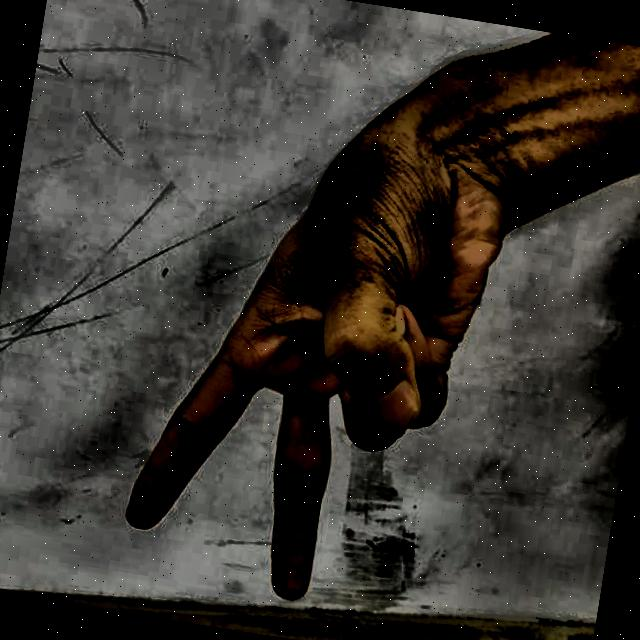Pa: (85, 51, 544, 640)
